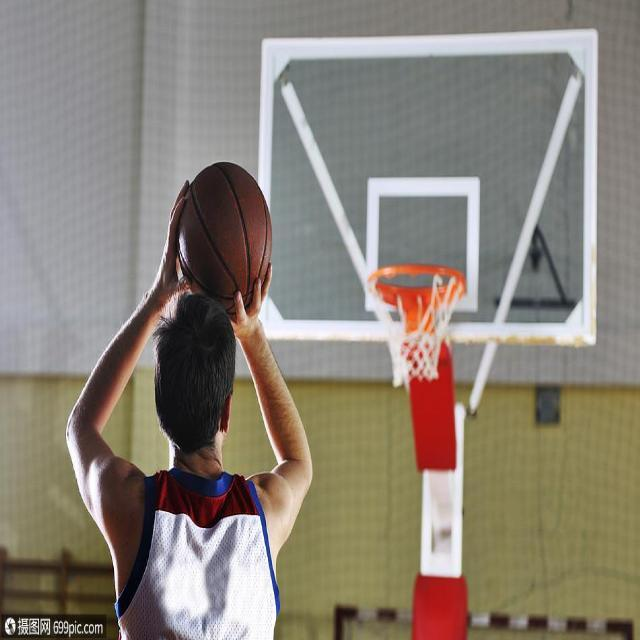rim: (176, 164, 274, 318)
